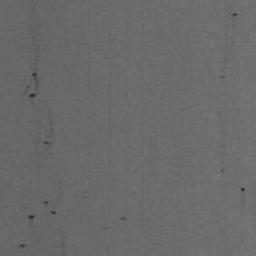Inclusion: (216, 10, 241, 82), (22, 70, 42, 101), (41, 116, 56, 147), (42, 197, 59, 218), (59, 233, 69, 256), (237, 186, 247, 205), (26, 214, 37, 221), (18, 243, 27, 250)
